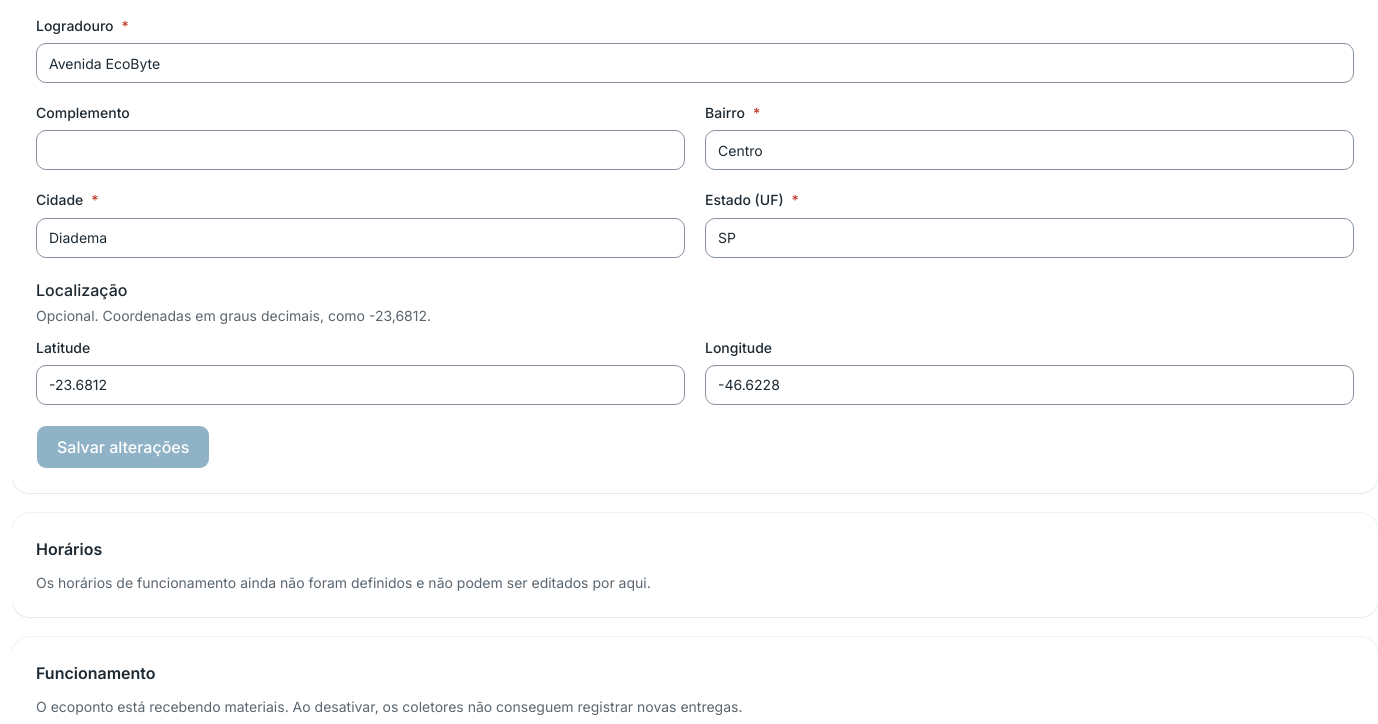
Scenario: AdminEcopoint (RF-039, DEC-065, DEC-076) › apagar as duas coordenadas remove a localização; só uma é erro
(page scrolled)
Clear the field labelled "Latitude" at (360, 385), box [36,365,685,405]
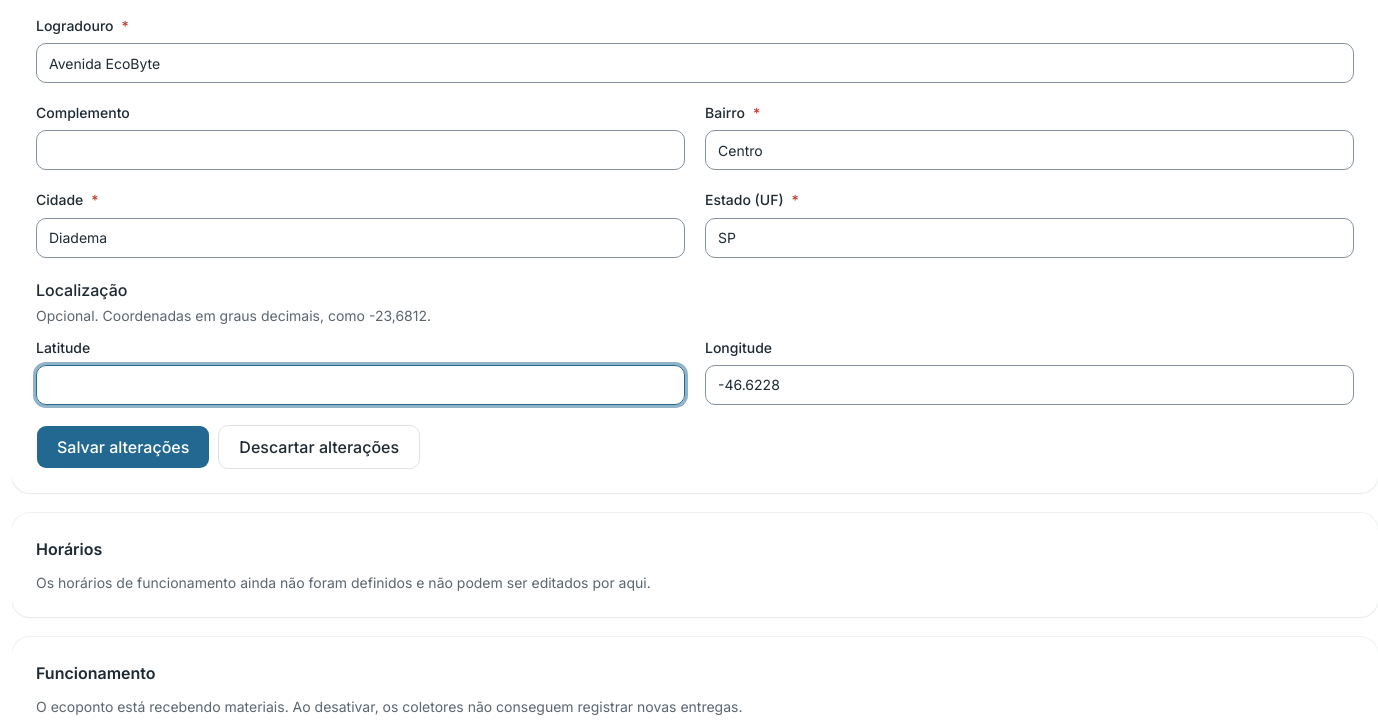
Click the button "Salvar alterações" at (123, 447), box [36,425,210,469]
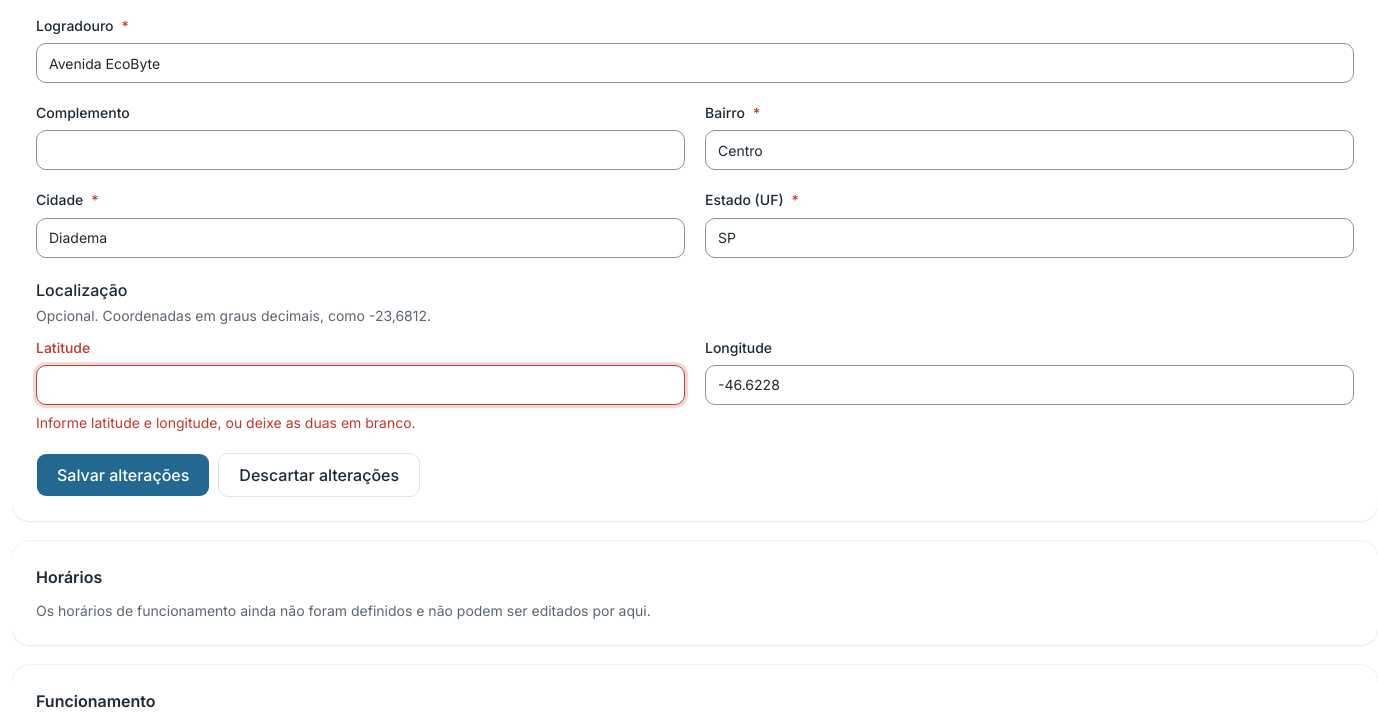
Expected: the text "Informe latitude e longitude, ou deixe as duas em branco." is shown, [36,414,416,431]
Clear the field labelled "Longitude" at (1030, 385), box [705,365,1354,405]
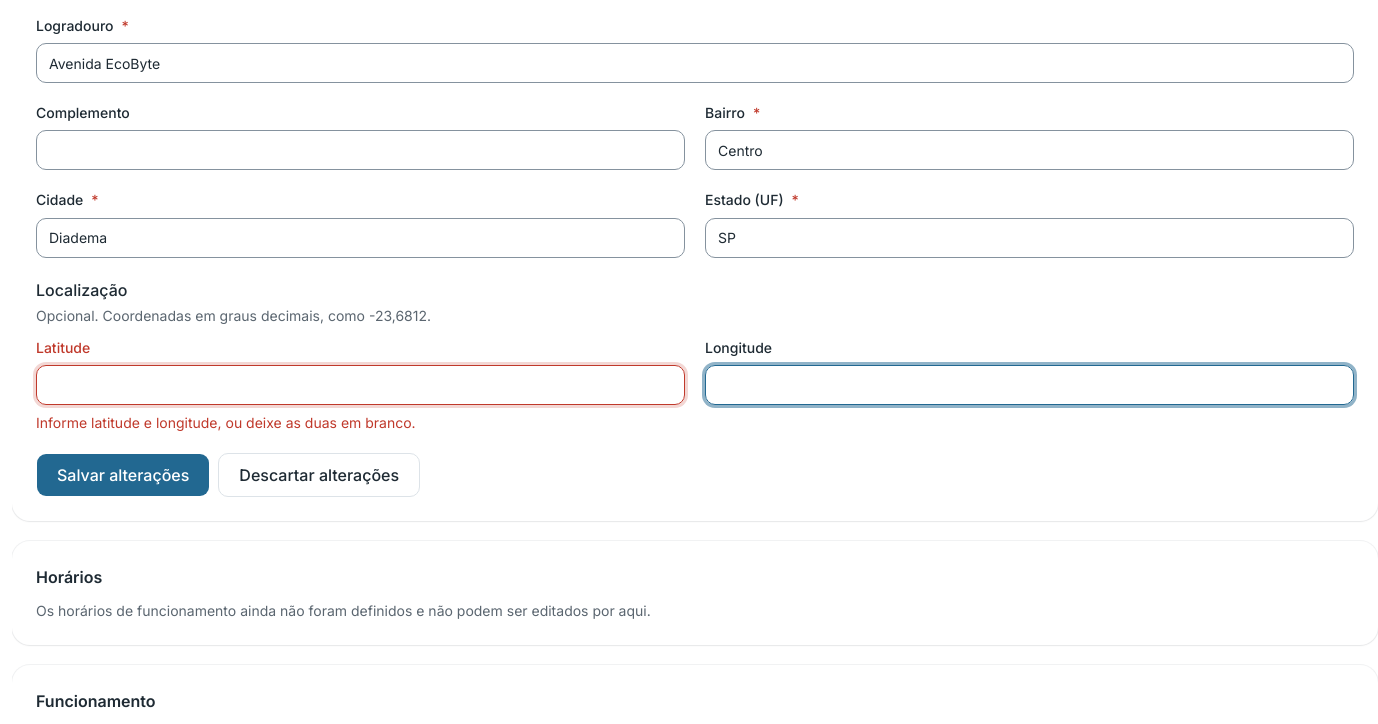
Click the button "Salvar alterações" at (123, 475), box [36,453,210,497]
(page scrolled)
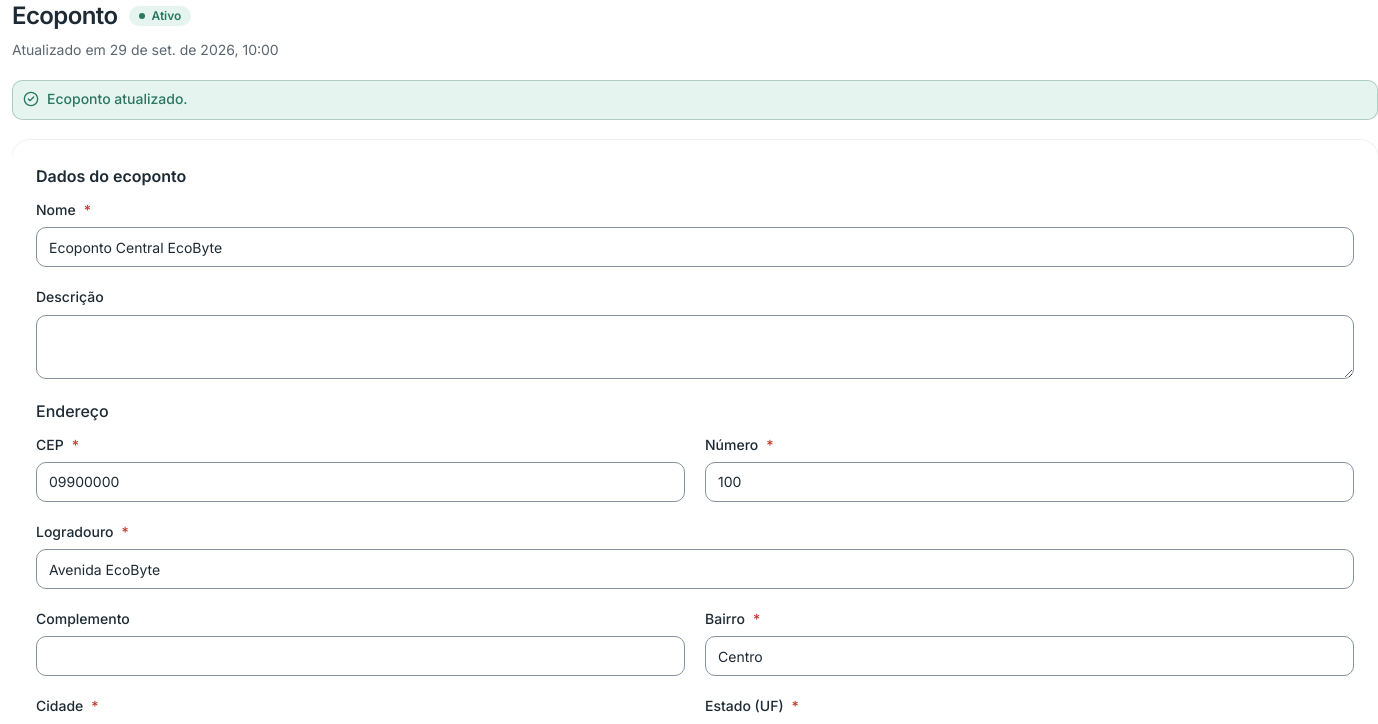
Expected: the message "Ecoponto atualizado." is shown, [12,80,1377,120]
